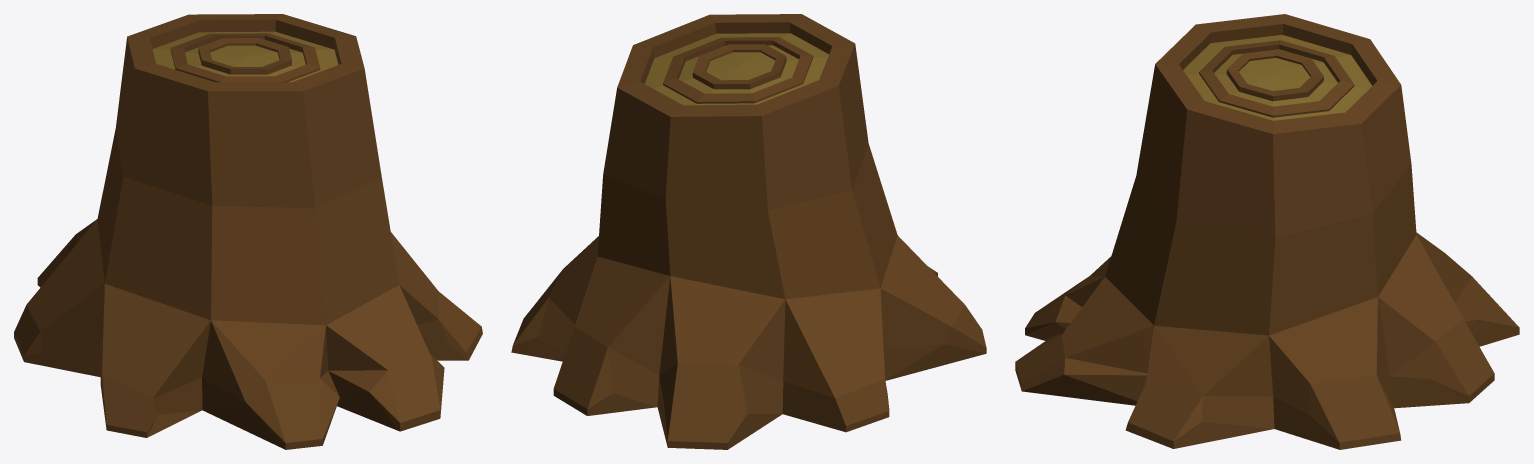
Rendered from treeStump.fbx.
3 renders of one model, left to right at view 1: azimuth 30°, elevation 25°; view 2: azimuth 150°, elevation 25°; view 3: azimuth 270°, elevation 25°, orthographic.
Parts seen in each view (by area): view 1: treeStump; view 2: treeStump; view 3: treeStump.
Boxes of the visible parts, bbox=[...] form: treeStump: bbox=[14, 14, 482, 449]; treeStump: bbox=[511, 14, 986, 449]; treeStump: bbox=[1015, 14, 1519, 449].
Bounding box in the file's own units: 87.36 × 65.07 × 100.
